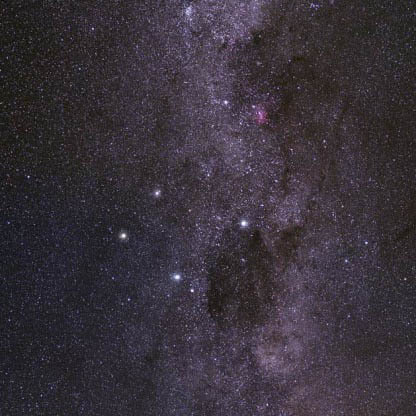Southern Cross: (113, 226, 134, 247), (235, 213, 257, 233), (169, 267, 188, 286), (147, 184, 164, 203)
